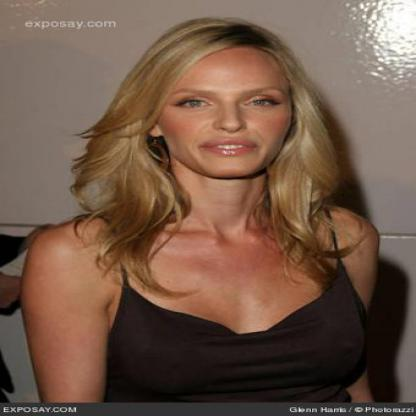long-hair: (53, 179, 362, 220)
